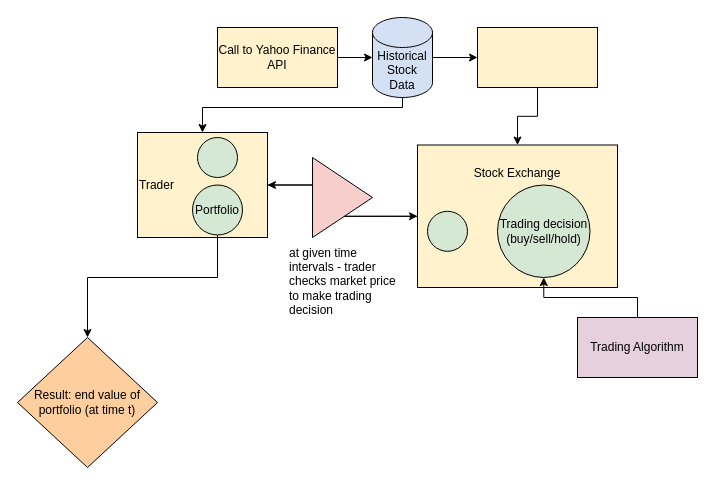
Some shapes in this 715 by 485 pixel diagram are drawn without their labels. The shapes that lost their labels are listed below. From the top down, each one's centre as x and y in pixels, then its label:
At [537,57]: "Prediction / ML Model".
At [217,157]: "Bank".
At [342,197]: "EVENT".
At [447,230]: "Stock Price".
